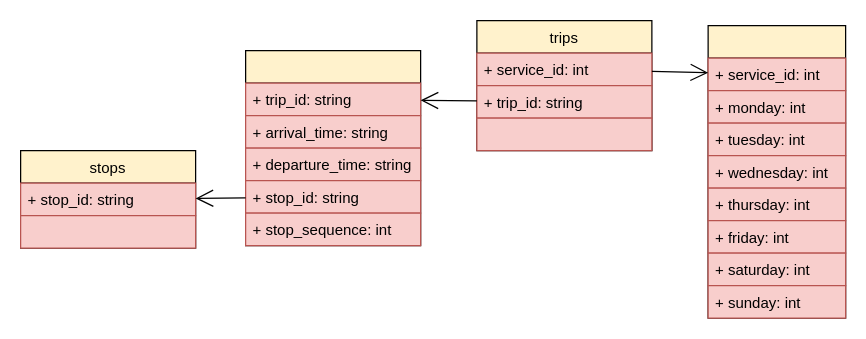
The diagram is 866 pixels wide and 339 high, and some of its shapes have lost their labels. The shapes that lost their labels are listed below. From the top down, each one's box as (x1, y1, x2, y2) in pixels, then its label:
(244, 49, 421, 246): stop_times
(476, 117, 652, 151): + trip_headsign: string
(707, 24, 846, 318): calendar
(19, 214, 196, 248): + stop_name: string
